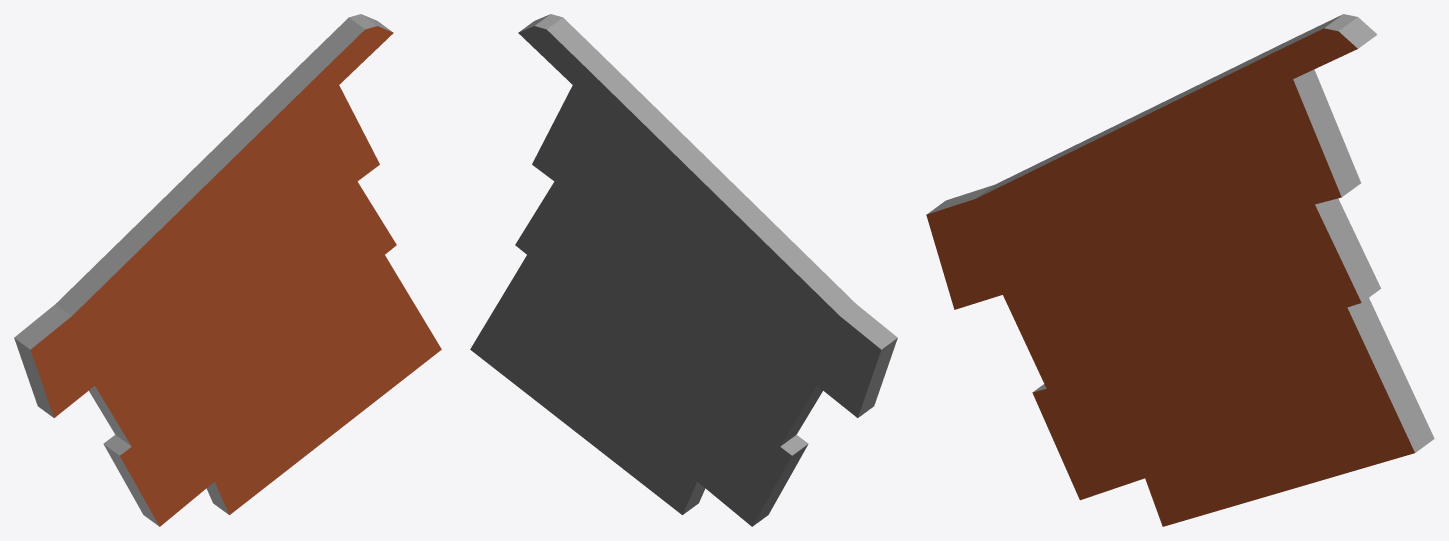
File: construction_0155_assumed_A_Grande_construcao_h6m.obj
3 views of the same model, side by side, from view 1: azimuth 30°, elevation 25°; view 2: azimuth 150°, elevation 25°; view 3: azimuth 330°, elevation 25° (orthographic). The views are drawn at different scales.
Parts seen in each view (by area): view 1: construction_0155_assumed_A_Grande_construcao; view 2: construction_0155_assumed_A_Grande_construcao; view 3: construction_0155_assumed_A_Grande_construcao.
Part boxes in pixels (x1,y1,x2,y2): construction_0155_assumed_A_Grande_construcao: (14, 14, 441, 526); construction_0155_assumed_A_Grande_construcao: (470, 14, 897, 526); construction_0155_assumed_A_Grande_construcao: (926, 14, 1434, 526).
Bounding box in the file's own units: 86.7 × 91.26 × 6.
